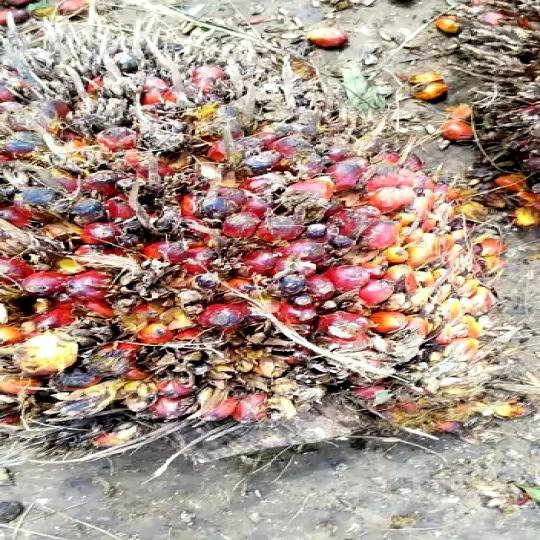masak: (0, 16, 516, 446)
